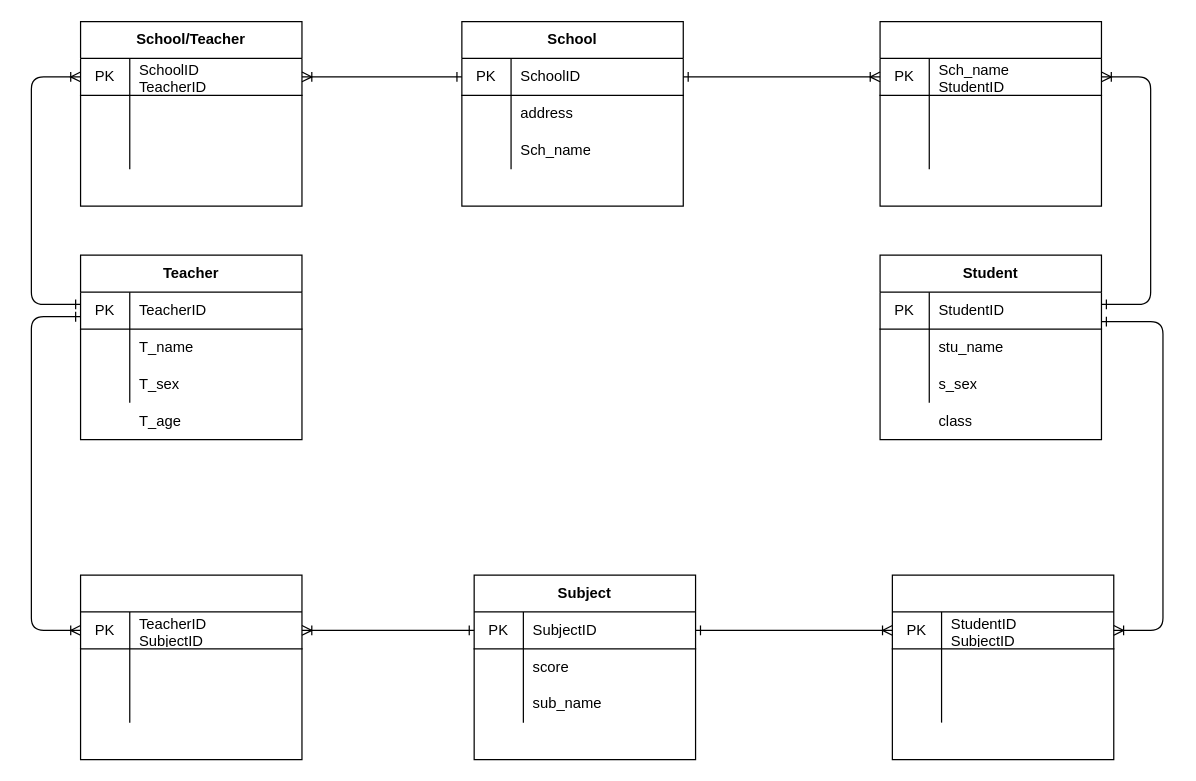
Some shapes in this 1196 by 781 pixel diagram are drawn without their labels. The box of each missing label's shape, as (x1, y1, x2, y2) in pixels:
School/Student: (879, 20, 1101, 206)
Student/Subject: (891, 574, 1114, 760)
Teacher/Subject: (79, 574, 302, 760)
